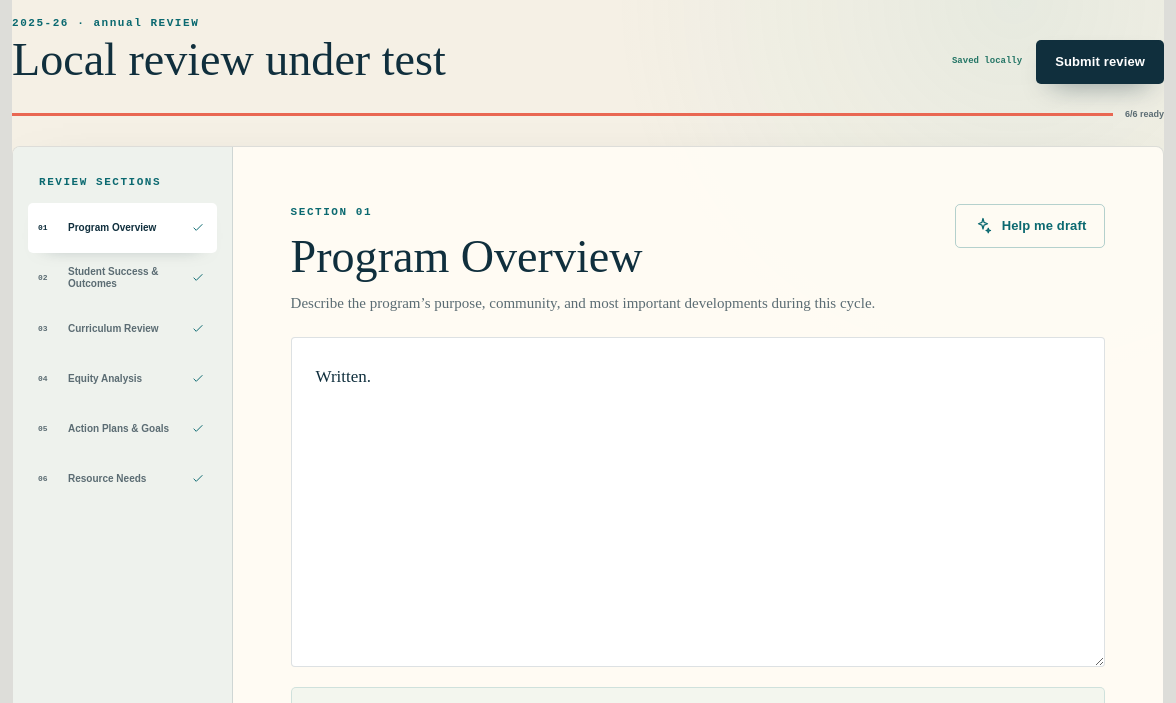
it: ReviewEditor submission gate › falls back to the error message when no sections are named
Click the button with test id "submit-review".
click(1100, 62)  # box [1036,40,1164,84]
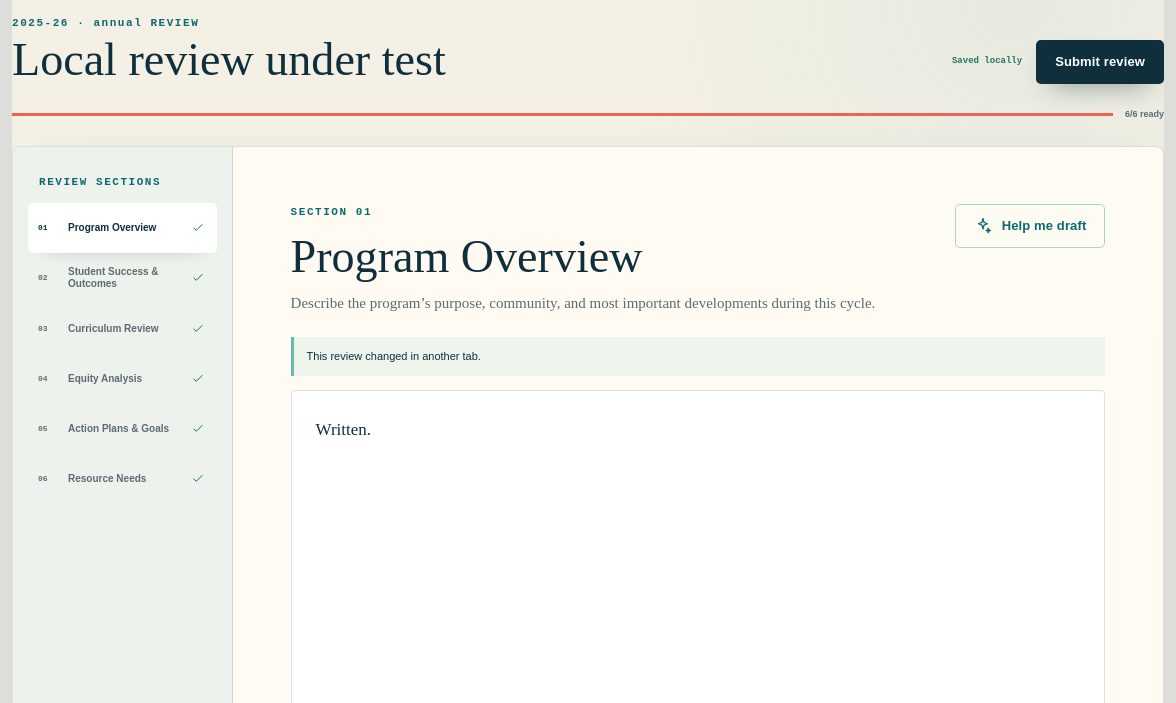
Now the text "changed in another tab" is shown, box [307,350,481,362]
